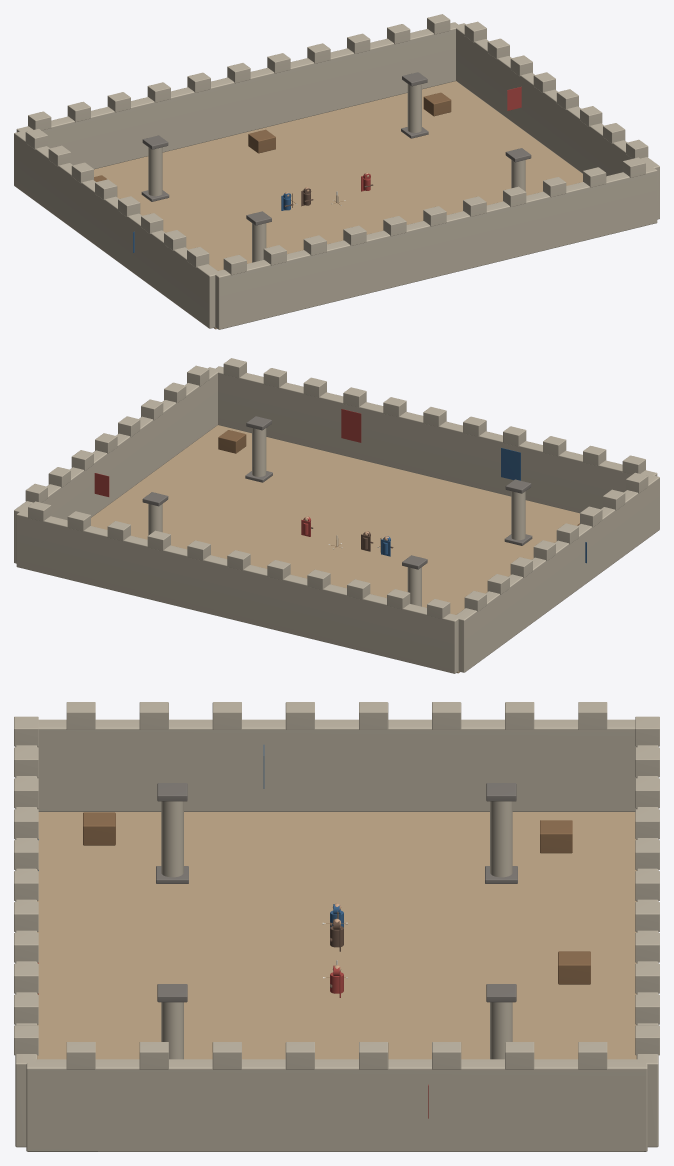
File: concordium-medieval-kit-v1.glb
3 renders of one model, top to bottom at view 1: azimuth 30°, elevation 25°; view 2: azimuth 150°, elevation 25°; view 3: azimuth 270°, elevation 25°, orthographic. The views are drawn at different scales.
Parts seen in each view (by area): view 1: arena_ground, wall_north, wall_south, wall_west, wall_east, limestone_column_-13_9, limestone_column_13_9, wooden_crate_17_12, wooden_crate_0_13, limestone_column_-13_-9; view 2: arena_ground, wall_south, wall_north, wall_west, wall_east, limestone_column_-13_-9, limestone_column_13_-9, hanging_banner_8_-16.35, hanging_banner_-8_-16.35, wooden_crate_18_-13, limestone_column_-13_9; view 3: arena_ground, wall_east, wall_west, wall_north, wall_south, limestone_column_-13_-9, limestone_column_-13_9, limestone_column_13_-9, limestone_column_13_9, wooden_crate_-18_-13, wooden_crate_0_13, wooden_crate_-17_12 (+38 smaller).
Boxes of the visible parts, x1,y1,x2,y2 form: arena_ground: (94, 81, 582, 329); wall_north: (215, 167, 657, 329); wall_south: (16, 22, 460, 169); wall_west: (14, 131, 219, 328); wall_east: (455, 23, 659, 219); limestone_column_-13_9: (148, 147, 162, 196); limestone_column_13_9: (407, 84, 421, 132); wooden_crate_17_12: (423, 92, 451, 116); wooden_crate_0_13: (248, 129, 275, 153); limestone_column_-13_-9: (252, 223, 266, 262); arena_ground: (91, 425, 579, 673); wall_south: (16, 509, 459, 673); wall_north: (213, 366, 657, 513); wall_west: (455, 475, 659, 672); wall_east: (14, 367, 217, 563); limestone_column_-13_-9: (511, 491, 525, 540); limestone_column_13_-9: (252, 428, 266, 476); hanging_banner_8_-16.35: (341, 409, 361, 442); hanging_banner_-8_-16.35: (501, 448, 520, 480); wooden_crate_18_-13: (218, 430, 246, 453); limestone_column_-13_9: (407, 567, 421, 606); arena_ground: (37, 812, 636, 1059); wall_east: (26, 1059, 647, 1151); wall_west: (37, 719, 636, 811); wall_north: (15, 745, 37, 1147); wall_south: (636, 745, 658, 1147); limestone_column_-13_-9: (161, 801, 183, 877); limestone_column_-13_9: (490, 801, 512, 877); limestone_column_13_-9: (161, 1002, 183, 1059); limestone_column_13_9: (490, 1002, 512, 1059); wooden_crate_-18_-13: (83, 812, 115, 845); wooden_crate_0_13: (558, 951, 590, 984); wooden_crate_-17_12: (540, 820, 572, 853).
Bounding box in the file's own units: 45.5 × 6.81 × 35.35.
